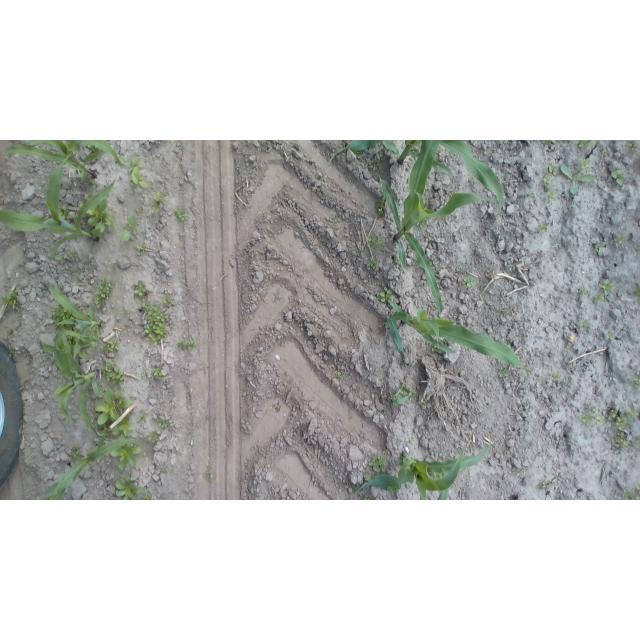Maize: (380, 158, 491, 317), (0, 154, 116, 260), (387, 298, 529, 381), (351, 438, 492, 500), (382, 140, 505, 208), (51, 335, 110, 442), (42, 438, 136, 500), (4, 141, 130, 178), (48, 285, 103, 359), (327, 140, 377, 164), (389, 380, 417, 406)
Weeds: (138, 298, 168, 346), (94, 388, 130, 424), (87, 202, 115, 243), (560, 163, 595, 195), (608, 406, 640, 432), (113, 476, 144, 500), (112, 448, 143, 471), (94, 279, 115, 310), (103, 358, 125, 384), (580, 405, 604, 428), (121, 216, 138, 242), (119, 155, 146, 171), (131, 166, 149, 190), (111, 418, 133, 436), (152, 192, 168, 216), (1, 289, 19, 309), (367, 233, 385, 253), (369, 454, 387, 473), (376, 286, 393, 305), (610, 432, 630, 448), (597, 279, 615, 294), (99, 340, 119, 353), (176, 338, 196, 351), (175, 205, 190, 222), (367, 154, 382, 171), (50, 306, 69, 319), (68, 444, 83, 460), (365, 255, 380, 271), (376, 195, 386, 218), (611, 171, 626, 186), (133, 281, 147, 296), (463, 274, 478, 288), (573, 140, 599, 148), (539, 481, 557, 492), (161, 293, 173, 308), (62, 204, 73, 220), (147, 430, 160, 443), (498, 365, 510, 378), (137, 411, 149, 424), (546, 187, 557, 201), (578, 284, 590, 296), (580, 158, 592, 170), (201, 472, 214, 483), (594, 292, 607, 303), (613, 235, 625, 246), (70, 267, 82, 278), (330, 212, 342, 223), (630, 376, 640, 389), (78, 171, 91, 181), (157, 419, 171, 428), (595, 243, 606, 254), (544, 173, 552, 187), (273, 291, 284, 301), (549, 165, 559, 176), (629, 142, 640, 152), (135, 243, 145, 254), (88, 331, 98, 342), (540, 222, 549, 234), (153, 367, 162, 379), (621, 490, 631, 500), (581, 319, 591, 329), (68, 247, 78, 257), (606, 331, 615, 342), (347, 409, 355, 421), (7, 346, 15, 358), (55, 254, 64, 264), (633, 488, 640, 500), (119, 307, 127, 317), (101, 426, 109, 436), (362, 473, 375, 479), (633, 283, 639, 296), (542, 140, 557, 145), (552, 373, 561, 381), (336, 372, 344, 381), (362, 494, 374, 500), (430, 345, 438, 353), (528, 192, 536, 200), (90, 180, 97, 189), (515, 468, 522, 476), (538, 377, 546, 384), (520, 402, 527, 410), (568, 205, 576, 212), (144, 493, 152, 500), (434, 473, 443, 479), (502, 306, 508, 314), (354, 150, 360, 158), (504, 449, 513, 454), (409, 438, 416, 444), (565, 346, 572, 352), (112, 264, 117, 272), (143, 370, 148, 378), (100, 319, 105, 327), (420, 342, 426, 347), (382, 449, 388, 454), (484, 150, 490, 155), (163, 465, 168, 471), (10, 329, 15, 334), (86, 278, 91, 283), (637, 246, 640, 253), (423, 401, 427, 406), (570, 318, 574, 322)
